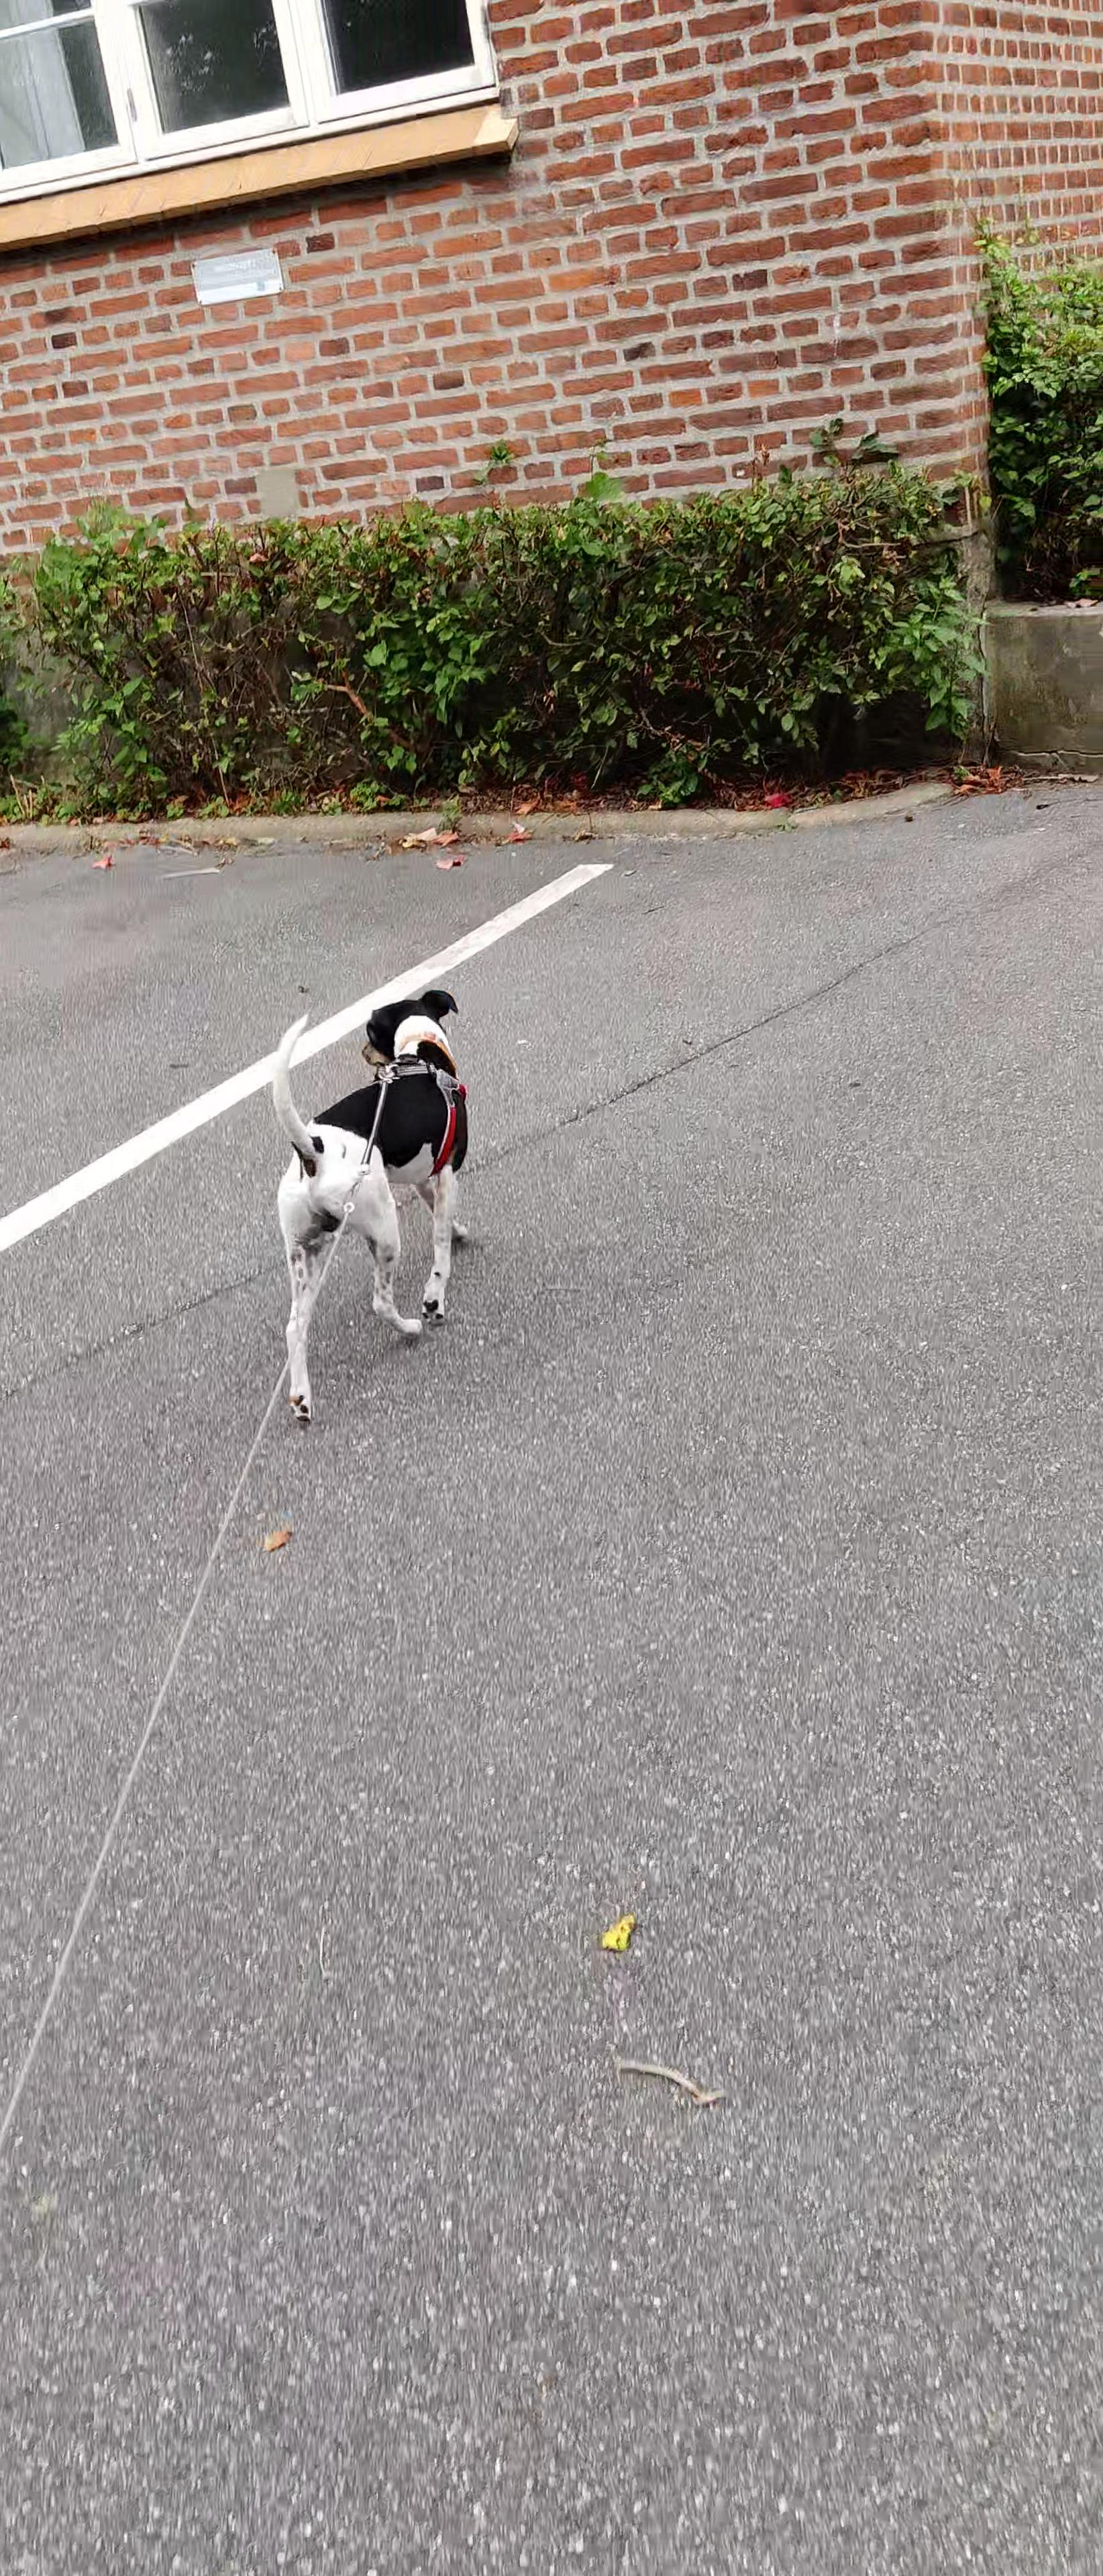Dog: (266, 982, 480, 1428)
